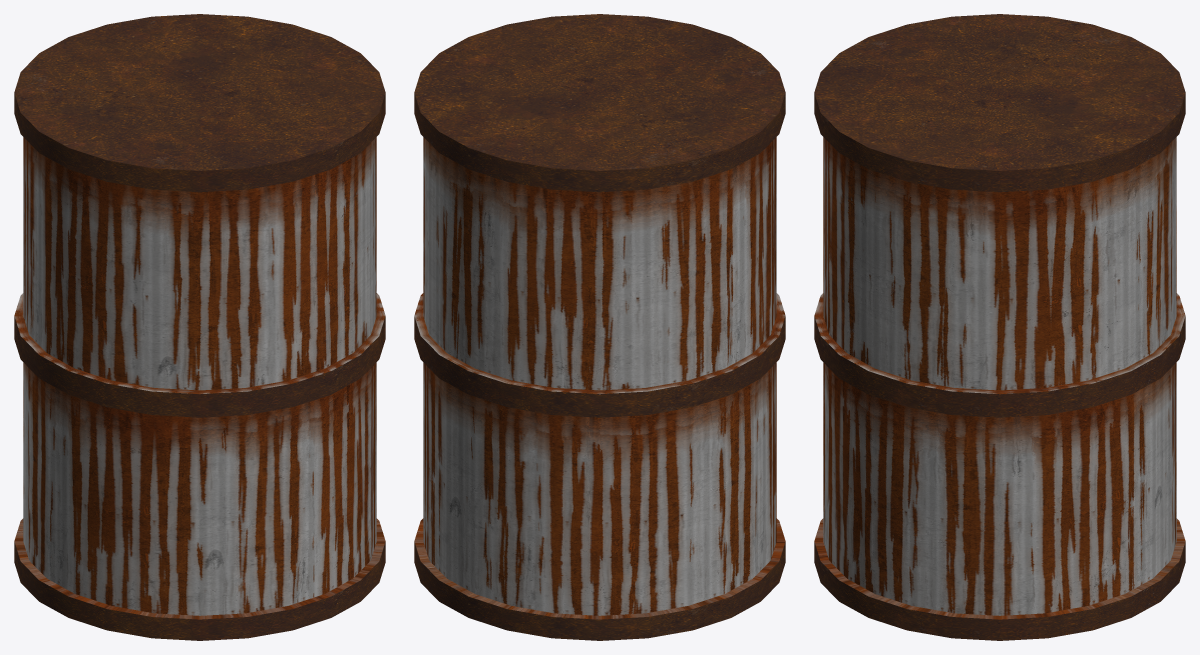
File: barrelMetal.glb
The picture shows the model from 3 angles, left to right: view 1: azimuth 30°, elevation 25°; view 2: azimuth 150°, elevation 25°; view 3: azimuth 270°, elevation 25°; orthographic projection.
Parts seen in each view (by area): view 1: Barrel_Small_Cylinder.004; view 2: Barrel_Small_Cylinder.004; view 3: Barrel_Small_Cylinder.004.
Boxes of the visible parts, x1,y1,x2,y2 form: Barrel_Small_Cylinder.004: (14,14,385,640); Barrel_Small_Cylinder.004: (414,14,785,640); Barrel_Small_Cylinder.004: (814,14,1185,640).
Size of the model in its own units: 1.58 by 2.2 by 1.58.
2 materials, 2 textured.
